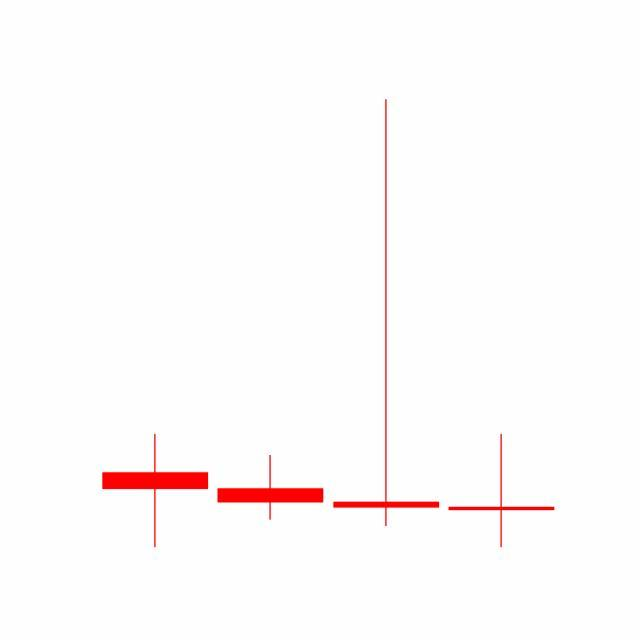Spinning Top: (444, 433, 560, 550)
